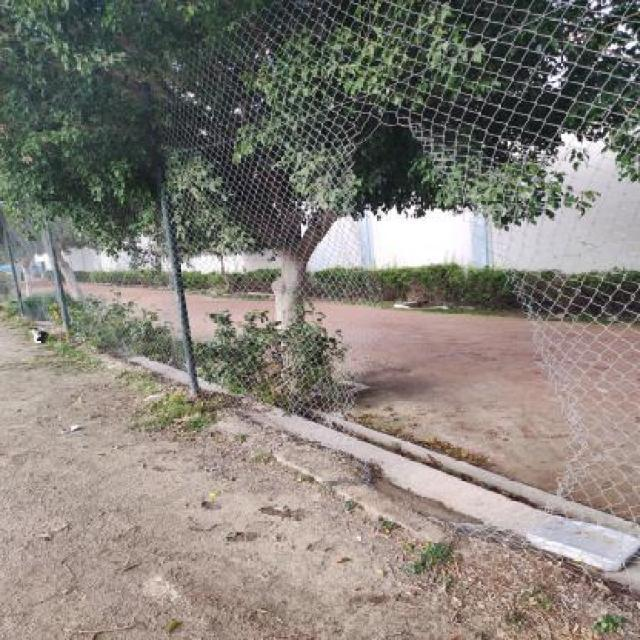fence line: (335, 173, 590, 553)
